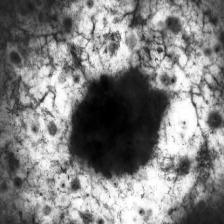Benign Marking or Mole: (70, 71, 167, 177)
